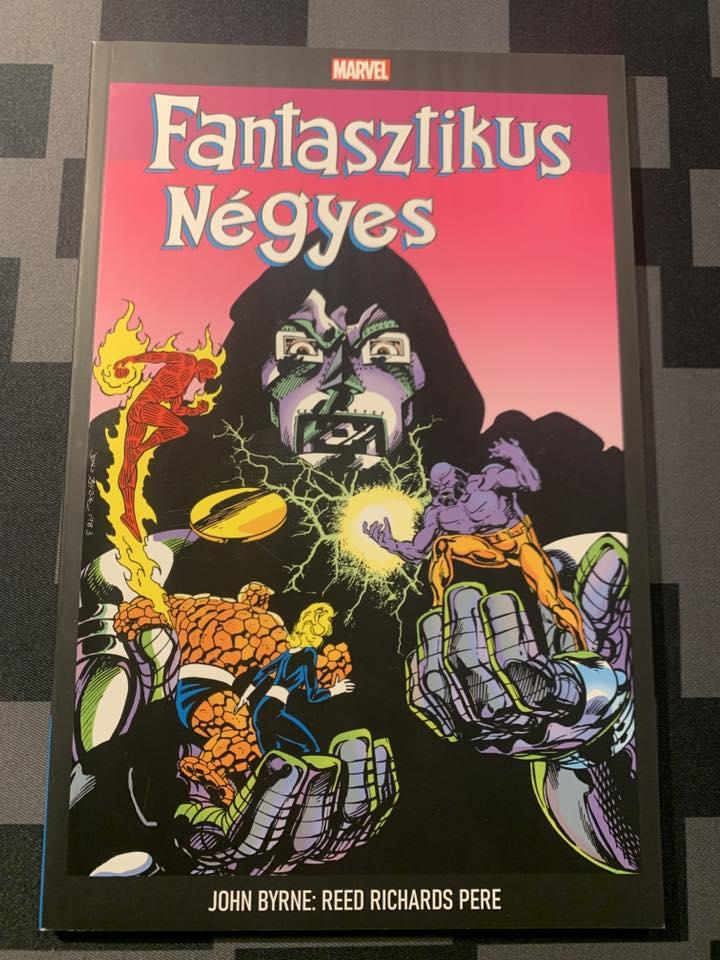comic: (41, 43, 672, 936)
